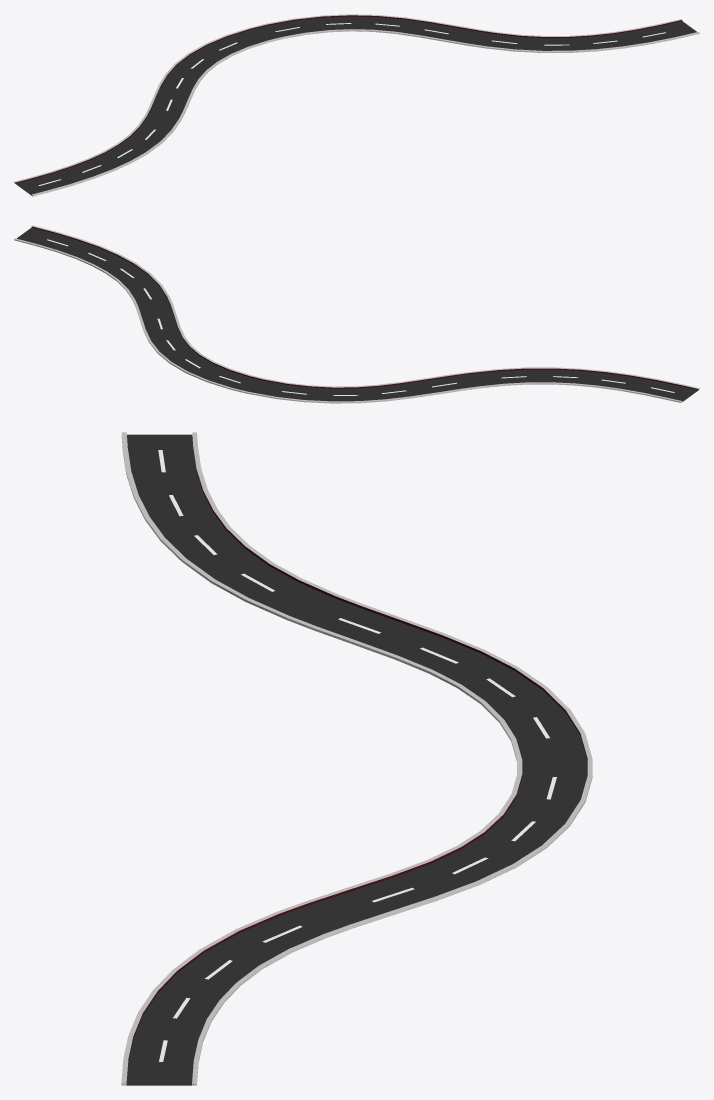
Rendered from Drift_MiniGame_Road.fbx.
3 views of the same model, one above another, from view 1: azimuth 30°, elevation 25°; view 2: azimuth 150°, elevation 25°; view 3: azimuth 270°, elevation 25° (orthographic). The views are drawn at different scales.
Parts seen in each view (by area): view 1: Plane.002; view 2: Plane.002; view 3: Plane.002.
Part boxes in pixels (x1,y1,x2,y2): Plane.002: [14, 14, 699, 196]; Plane.002: [14, 225, 699, 403]; Plane.002: [121, 432, 592, 1085].
Bounding box in the file's own units: 4081 × 6.71 × 1248.
Materials: 1 (1 with a texture image).
